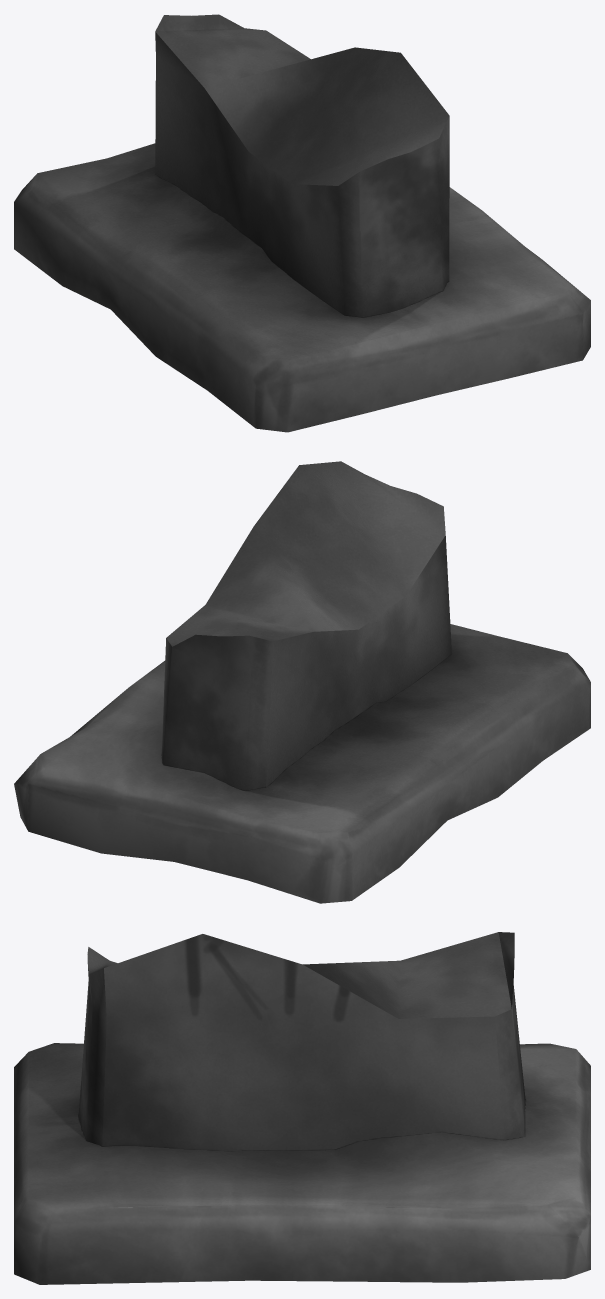
The model's file is tomb3.fbx.
3 renders of one model, top to bottom at view 1: azimuth 30°, elevation 25°; view 2: azimuth 150°, elevation 25°; view 3: azimuth 270°, elevation 25°, orthographic. The views are drawn at different scales.
Parts seen in each view (by area): view 1: Cube, Cube.001; view 2: Cube, Cube.001; view 3: Cube, Cube.001.
Part boxes in pixels (bbox=[...]): Cube: bbox=[14, 143, 590, 432]; Cube.001: bbox=[155, 14, 449, 317]; Cube: bbox=[14, 624, 590, 903]; Cube.001: bbox=[161, 461, 451, 790]; Cube: bbox=[14, 1043, 590, 1284]; Cube.001: bbox=[78, 932, 525, 1151].
Size of the model in its own units: 155 by 117 by 211.
